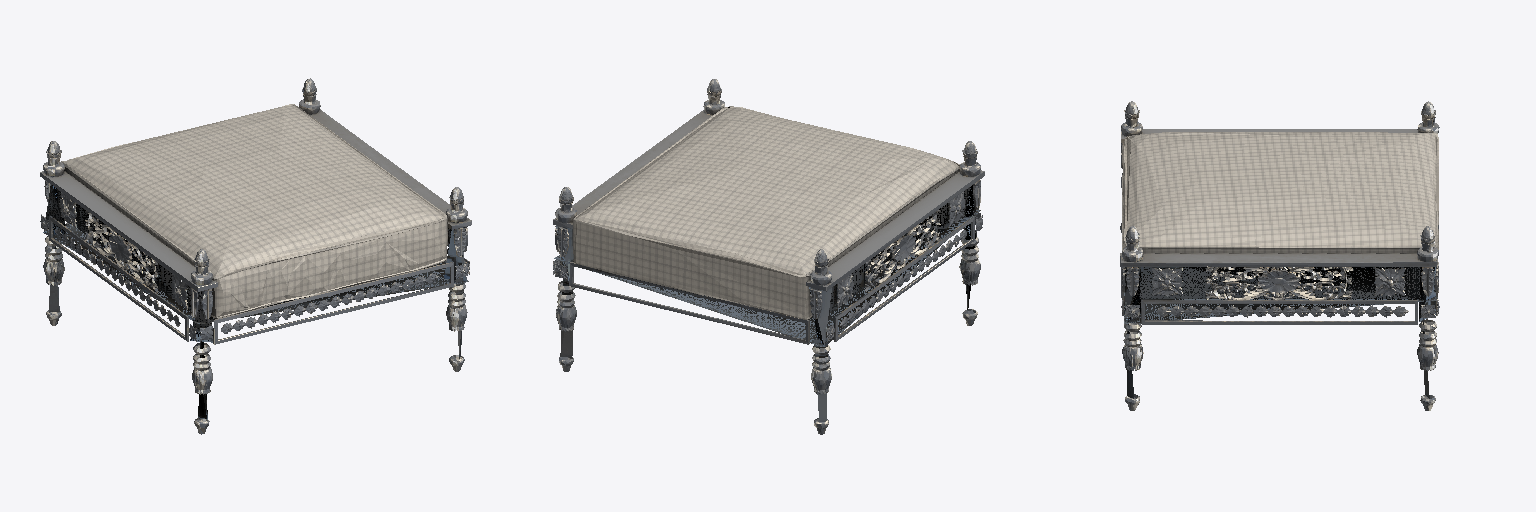
3 views of the same model, side by side, from view 1: azimuth 30°, elevation 25°; view 2: azimuth 150°, elevation 25°; view 3: azimuth 270°, elevation 25° (orthographic).
Parts seen in each view (by area): view 1: solid_003, solid_002, solid_001; view 2: solid_003, solid_002, solid_001; view 3: solid_003, solid_002, solid_001.
Part boxes in pixels (x1,y1,x2,y2): solid_003: (61,104,447,318); solid_002: (40,78,471,434); solid_001: (43,185,468,419); solid_003: (573,106,959,319); solid_002: (553,79,984,434); solid_001: (554,185,980,421); solid_003: (1122,132,1438,261); solid_002: (1120,101,1439,410); solid_001: (1124,267,1436,398).
Bounding box in the file's own units: 1.76 × 1.12 × 1.76.
1 materials, 1 textured.